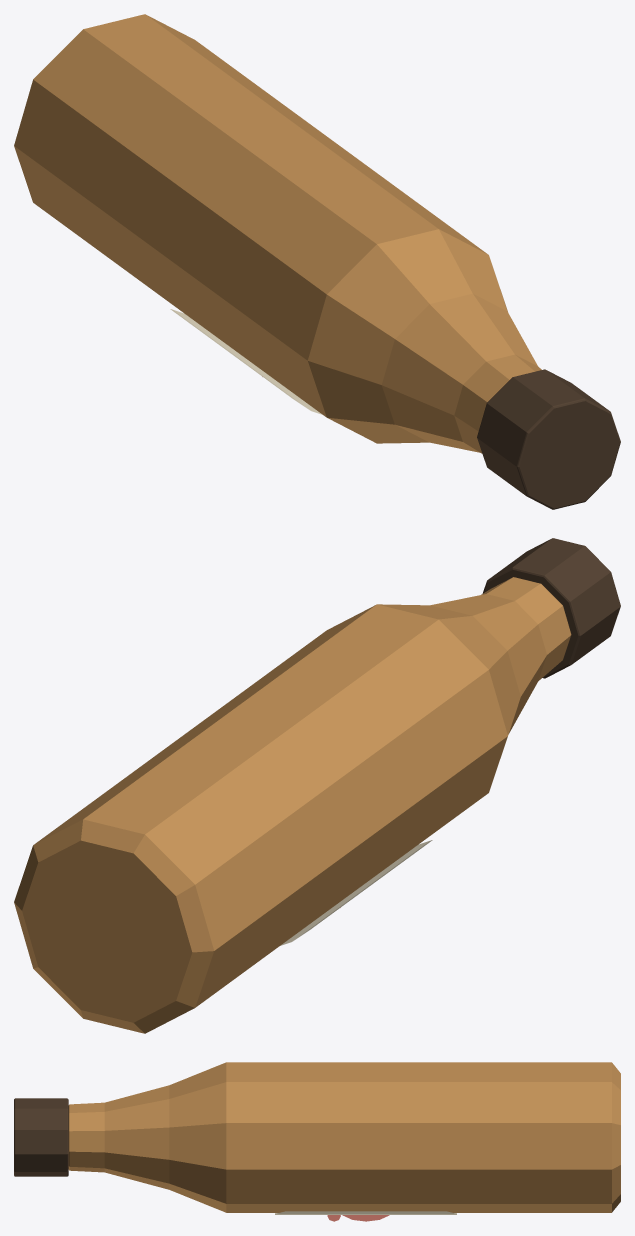
File: apple_cider_vinegar.glb
3 renders of one model, top to bottom at view 1: azimuth 30°, elevation 25°; view 2: azimuth 150°, elevation 25°; view 3: azimuth 270°, elevation 25°, orthographic. The views are drawn at different scales.
Parts seen in each view (by area): view 1: apple_cider_vinegar; view 2: apple_cider_vinegar; view 3: apple_cider_vinegar.
Boxes of the visible parts, x1,y1,x2,y2 form: apple_cider_vinegar: (14,14,620,509); apple_cider_vinegar: (14,538,620,1033); apple_cider_vinegar: (14,1062,620,1221).
Bounding box in the file's own units: 0.05 × 0.0505 × 0.2.
